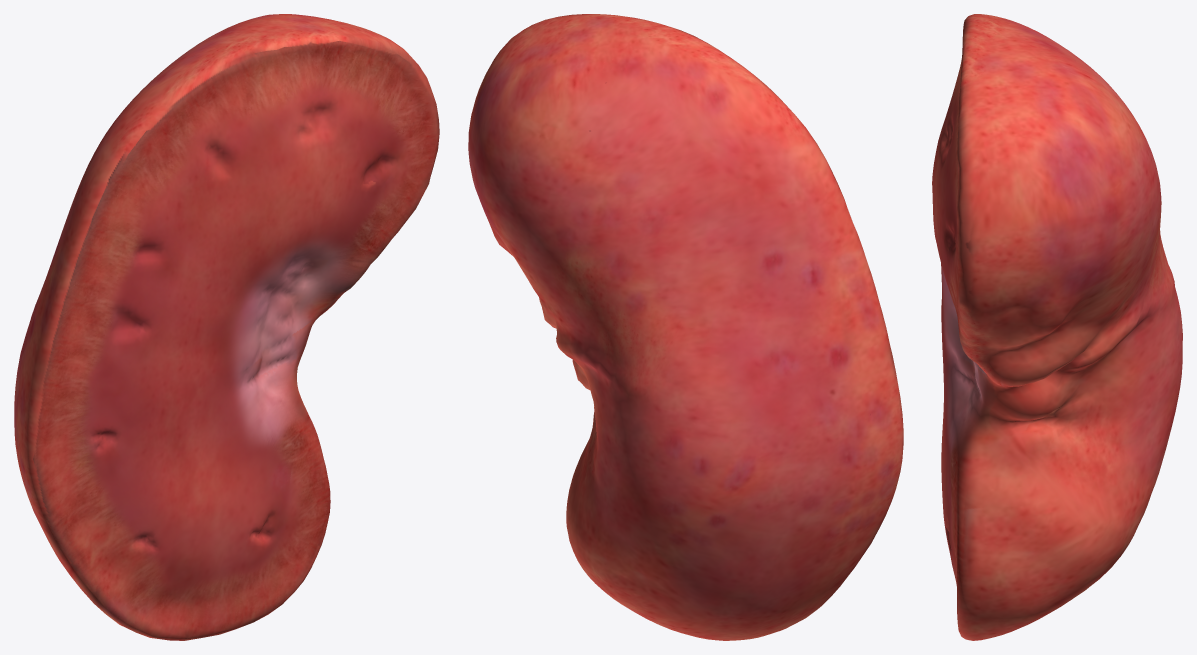
The model's file is 7_kanama.glb.
The picture shows the model from 3 angles, left to right: view 1: azimuth 30°, elevation 25°; view 2: azimuth 150°, elevation 25°; view 3: azimuth 270°, elevation 25°; orthographic projection. The views are drawn at different scales.
Parts seen in each view (by area): view 1: kanama; view 2: kanama; view 3: kanama.
Boxes of the visible parts, bbox=[...] form: kanama: bbox=[14, 14, 439, 640]; kanama: bbox=[468, 14, 903, 640]; kanama: bbox=[932, 14, 1182, 640].
Size of the model in its own units: 0.3478 by 0.4714 by 0.1734.
1 material, 1 textured.
